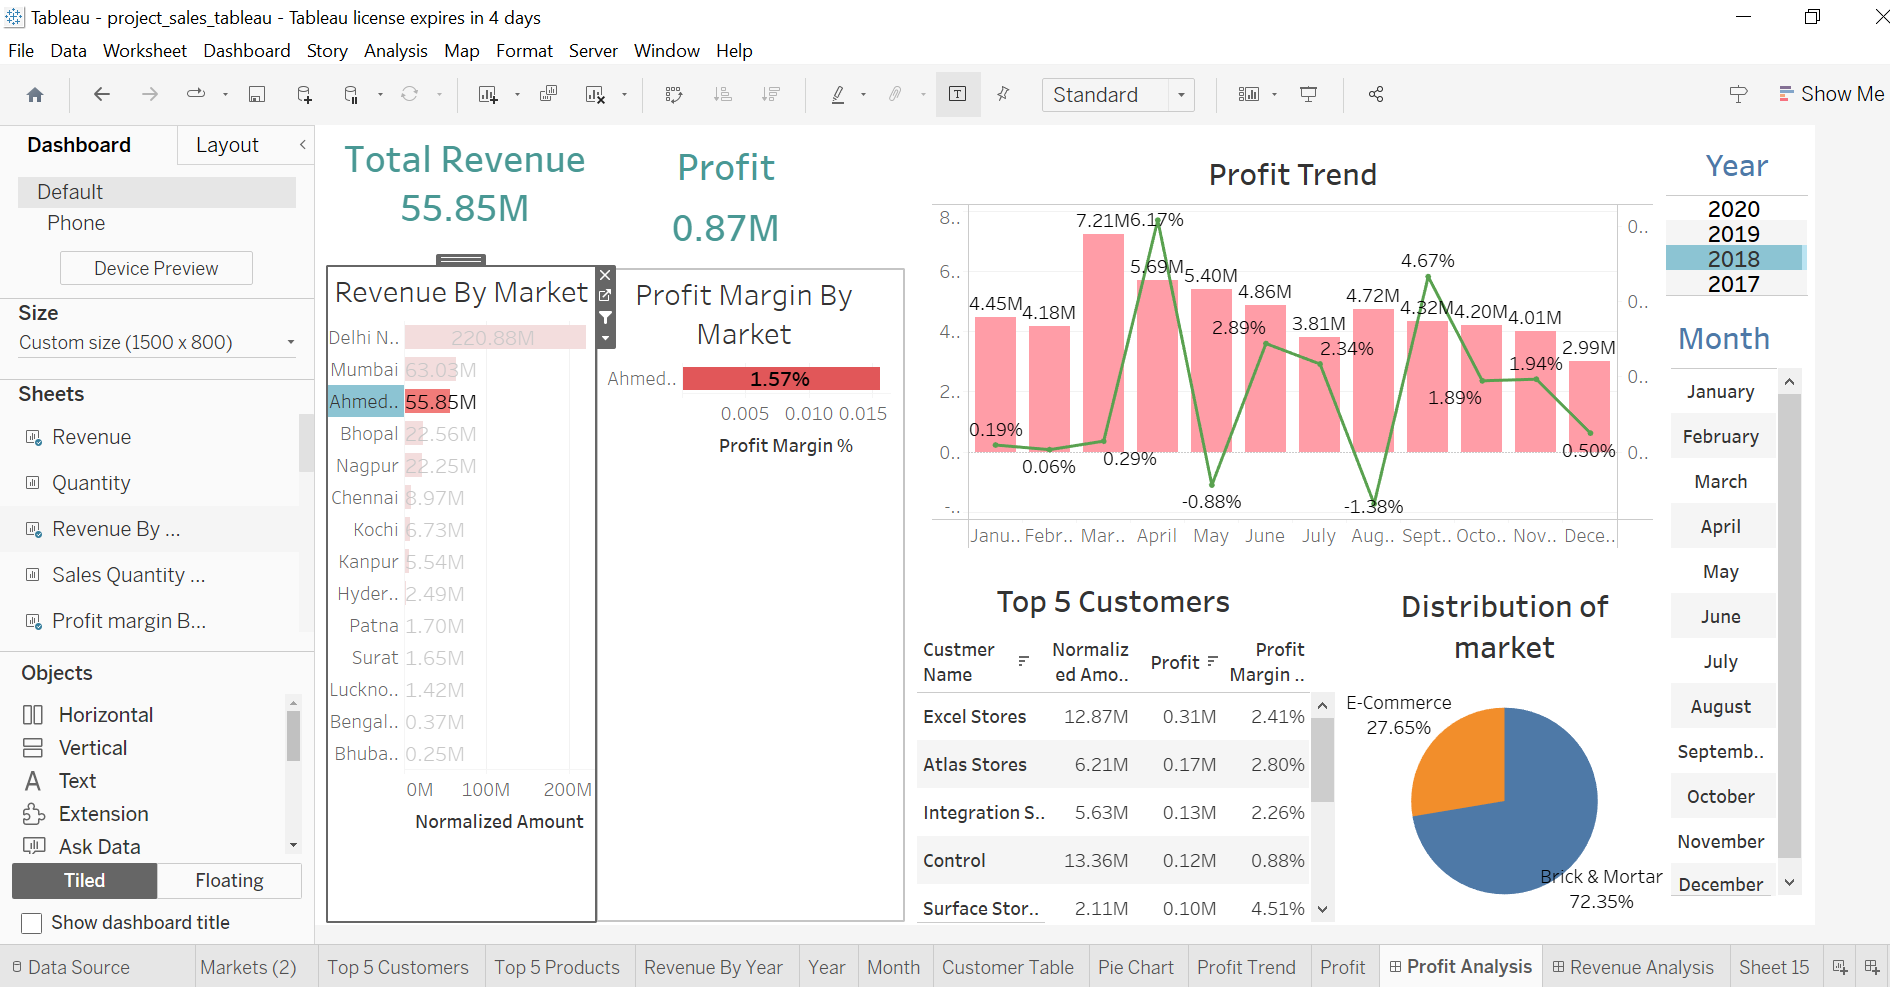

The page's visual inventory and layout, read from the dashboard file:
{"tool":"tableau","page":{"name":"Profit Analysis","canvas":[1500,800],"ordinal":0},"visuals":[{"type":"worksheet","title":"Revenue","mark":"Automatic","box":[8,8,312,107]},{"type":"worksheet","title":"Profit","mark":"Automatic","box":[317,12,204,117]},{"type":"worksheet","title":"Year","mark":"Automatic","rows":["cy_date"],"box":[1351,14,143,168]},{"type":"worksheet","title":"Profit Trend","mark":"Bar","rows":["Calculation_345651339696406528","Calculation_492862684414570496"],"cols":["cy_date"],"box":[617,23,722,401]},{"type":"worksheet","title":"Revenue By Markets","mark":"Automatic","rows":["markets_name"],"cols":["Calculation_345651339696406528"],"box":[13,142,267,654]},{"type":"worksheet","title":"Profit margin By Markets (2)","mark":"Automatic","rows":["markets_name"],"cols":["Calculation_492862684414570496"],"box":[283,145,305,650]},{"type":"worksheet","title":"Customer Table","mark":"Automatic","rows":["custmer_name"],"box":[602,450,418,348]},{"type":"worksheet","title":"Pie Chart","mark":"Pie","box":[1030,455,319,345]}]}

Visuals, with their boxes on the page's 1500x800 design canvas (x1, y1, x2, y2). These are canvas units, not pixel positions in the 1890x987 screenshot, which may show the page scaled, cropped or inside an application window:
"Revenue" worksheet: bbox(8, 8, 320, 115)
"Profit" worksheet: bbox(317, 12, 521, 129)
"Year" worksheet: bbox(1351, 14, 1494, 182)
"Profit Trend" worksheet (Bar marks): bbox(617, 23, 1339, 424)
"Revenue By Markets" worksheet: bbox(13, 142, 280, 796)
"Profit margin By Markets (2)" worksheet: bbox(283, 145, 588, 795)
"Customer Table" worksheet: bbox(602, 450, 1020, 798)
"Pie Chart" worksheet (Pie marks): bbox(1030, 455, 1349, 800)
